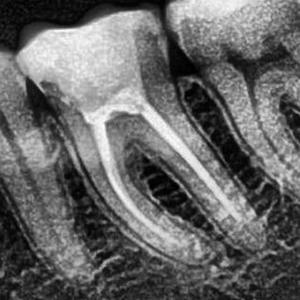tooth: (15, 5, 264, 263), (167, 0, 300, 205), (0, 38, 101, 288)
